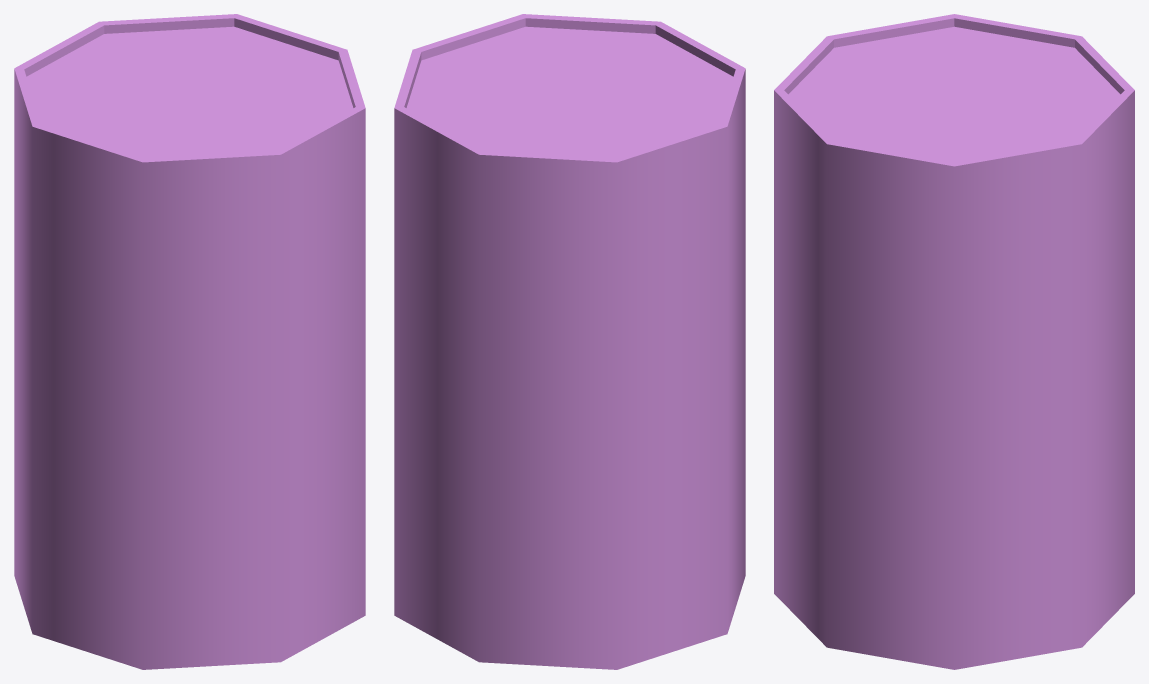
The model's file is Produce_Can.glb.
3 renders of one model, left to right at view 1: azimuth 30°, elevation 25°; view 2: azimuth 150°, elevation 25°; view 3: azimuth 270°, elevation 25°, orthographic.
Visible parts, largest first — view 1: Cylinder002; view 2: Cylinder002; view 3: Cylinder002.
Boxes of the visible parts, x1=… form: Cylinder002: x1=14, y1=14, x2=365, y2=669; Cylinder002: x1=394, y1=14, x2=745, y2=669; Cylinder002: x1=774, y1=14, x2=1134, y2=669.
Bounding box in the file's own units: 0.1186 × 0.1826 × 0.1186.
